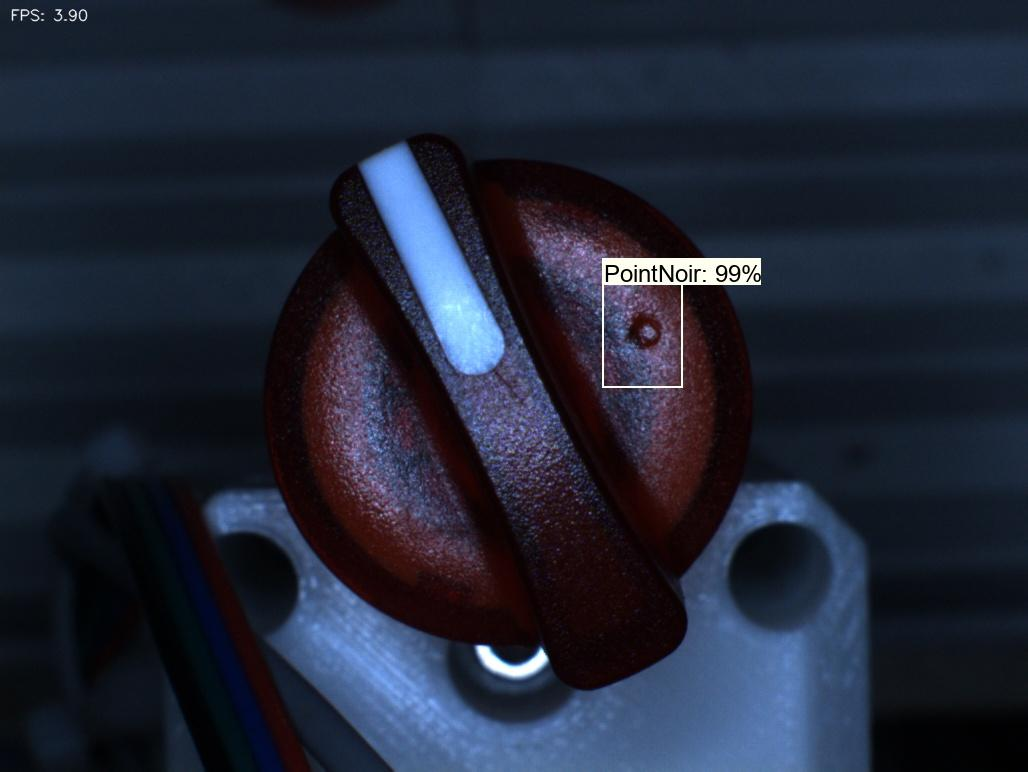Choc: (603, 292, 694, 382)
